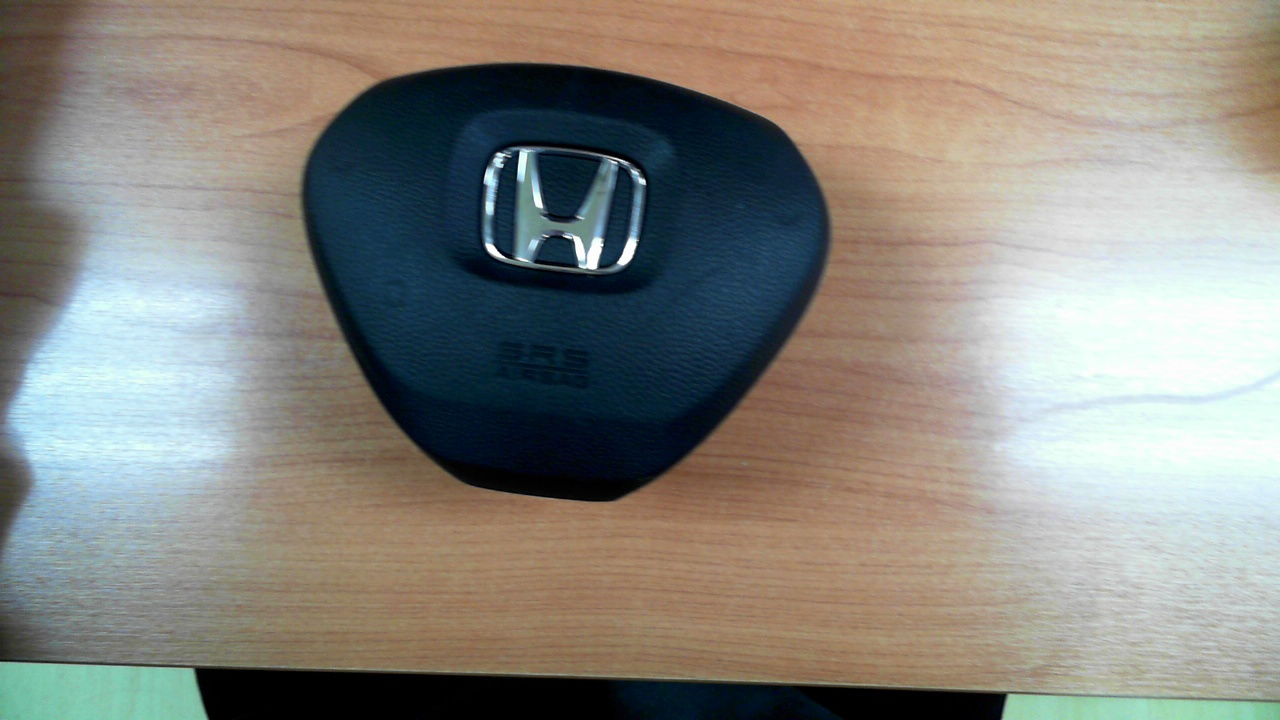Airbag: (301, 63, 832, 502)
Honda: (483, 146, 647, 275)
